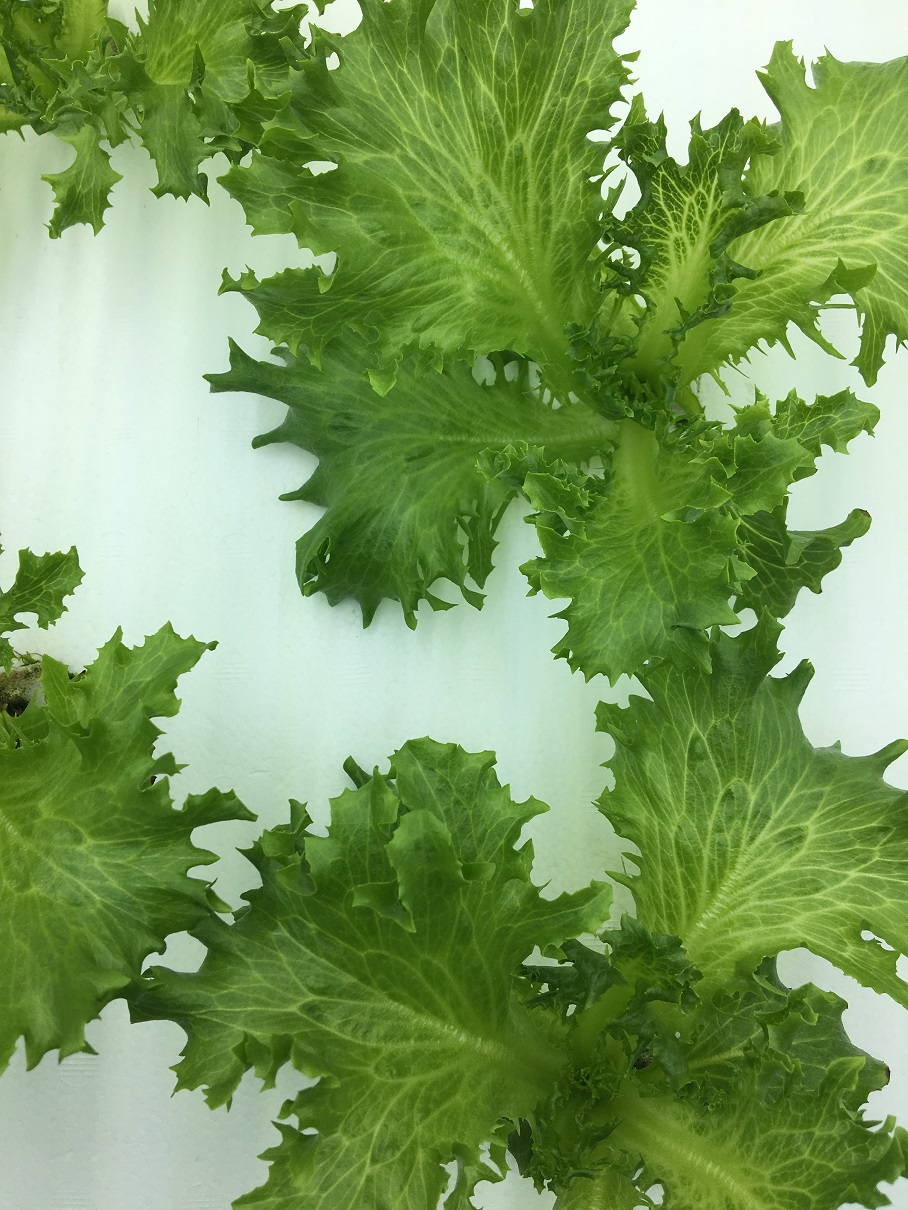tipburn: (851, 494, 880, 526), (880, 1057, 901, 1085), (815, 583, 837, 605)
